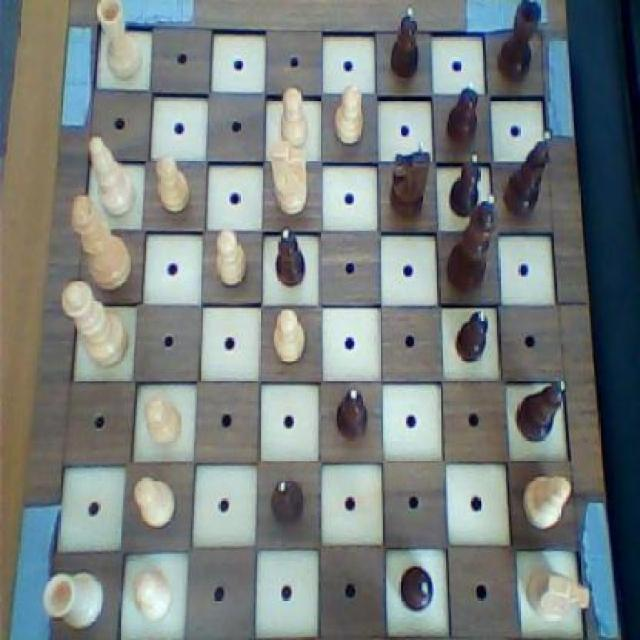bishop: (499, 124, 556, 224), (514, 375, 570, 444)
black-bishop: (442, 192, 500, 301)
black-king: (385, 133, 433, 224)
black-knight: (446, 147, 489, 220), (386, 0, 423, 83), (442, 78, 481, 150), (271, 225, 312, 293), (331, 383, 374, 447), (451, 303, 492, 368), (394, 558, 438, 617), (266, 471, 308, 532)
black-queen: (492, 0, 547, 88)
black-rook: (84, 133, 138, 220), (520, 466, 575, 539)
white-bishop: (66, 188, 133, 293)
white-king: (523, 562, 595, 629), (268, 134, 314, 218)
white-knight: (126, 558, 174, 627), (131, 471, 180, 534), (149, 149, 193, 215), (142, 389, 186, 454), (212, 222, 251, 294), (276, 78, 312, 151), (331, 74, 367, 145), (271, 305, 309, 366)
white-pawn: (57, 276, 132, 368)
white-queen: (94, 0, 149, 85), (42, 566, 110, 634)
